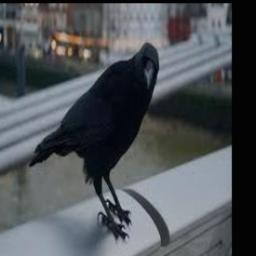Crow: (29, 43, 158, 241)
